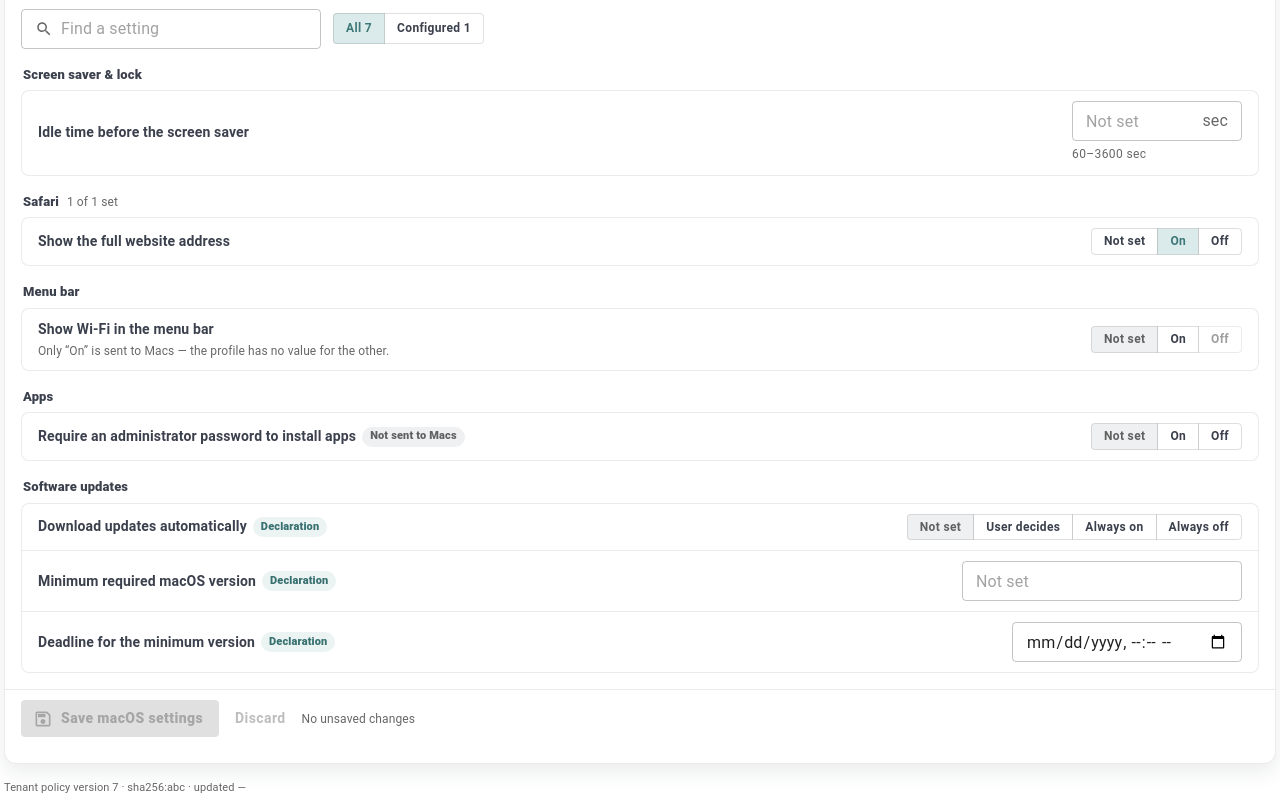
Test case: Policies — actualizaciones por DDM (1-oct) › una versión con forma rara se marca
(page scrolled)
Expected: the button "Off" in the row of "Show the full website address" is enabled, 1198,228 -> 1242,255
Type "latest" into the field labelled "Minimum required macOS version".
click(1102, 581); type("latest")  # box 962,561 -> 1242,601
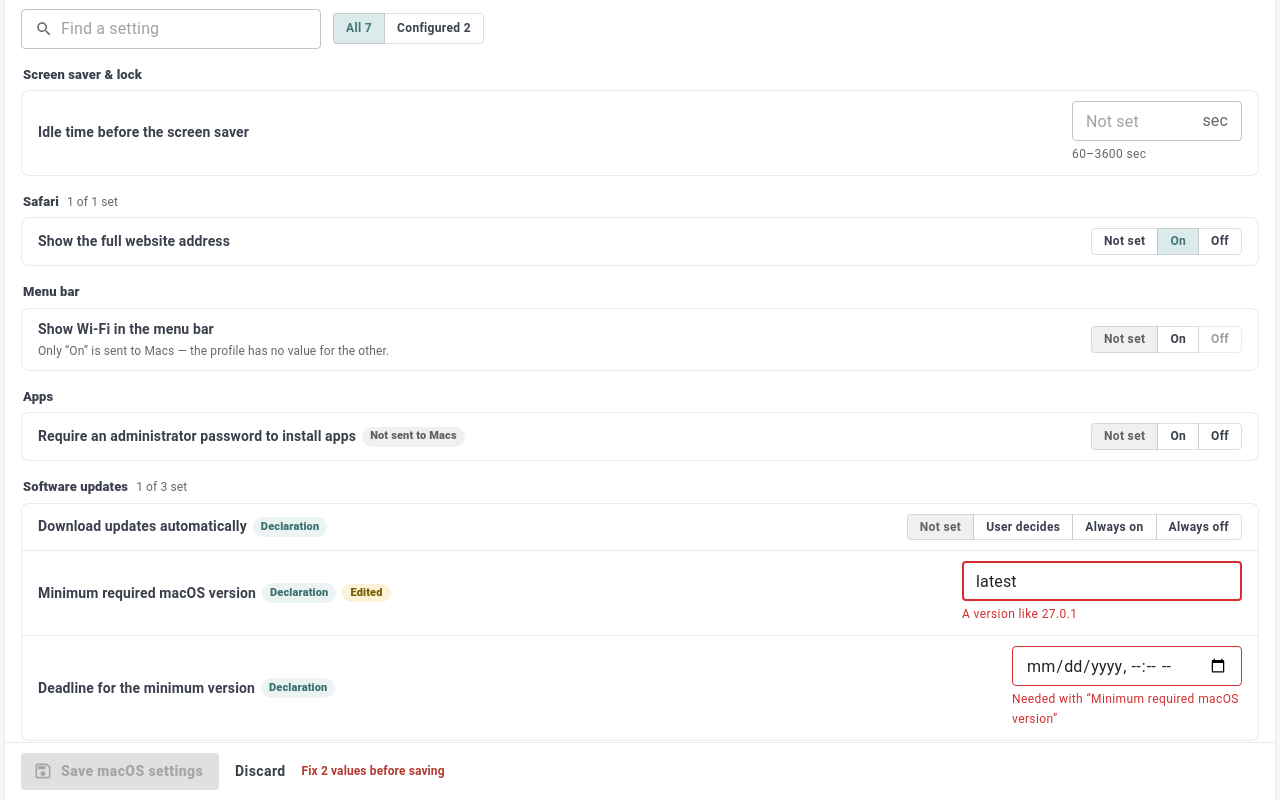
Now the text "A version like 27.0.1" is shown, box 962,607 -> 1077,621
